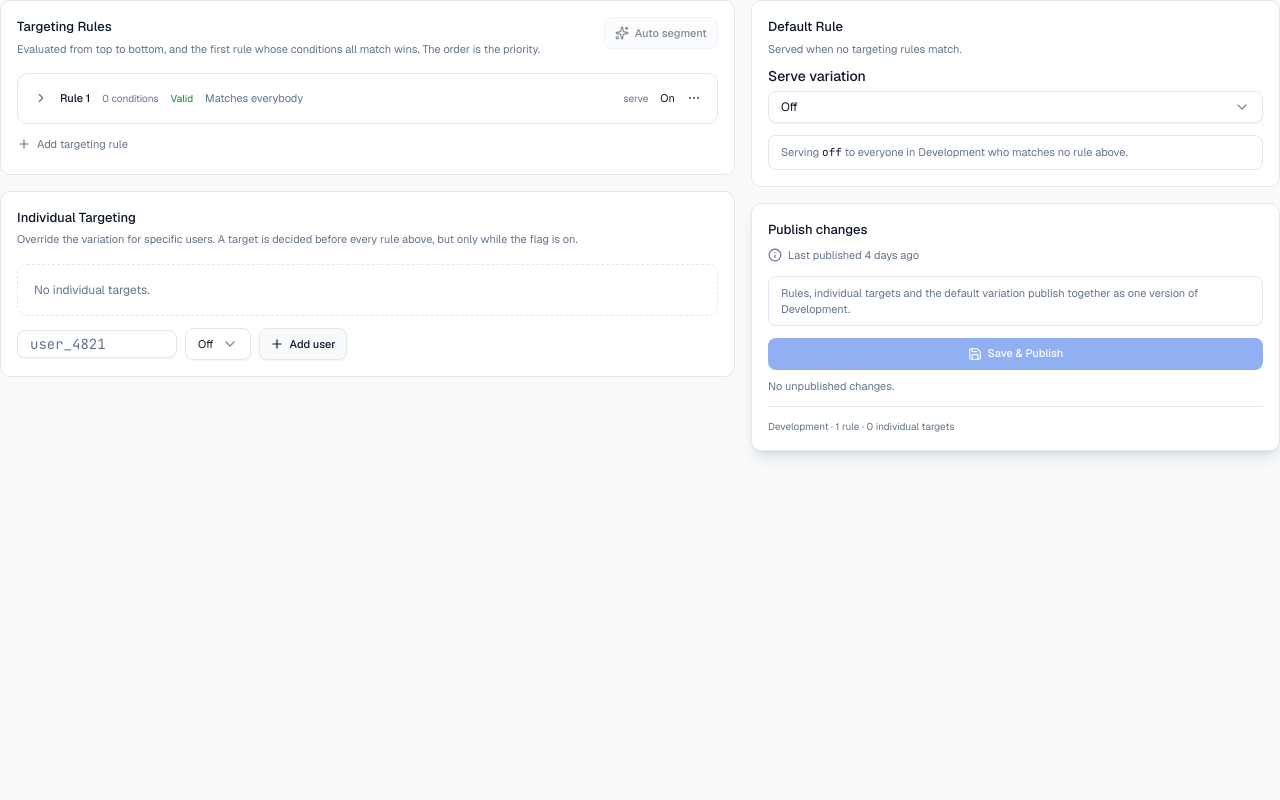
it: expanding a rule › opens the rule that was clicked
Click the button "Rule 1" at (131, 98), box x1=30 y1=86 x2=679 y2=110
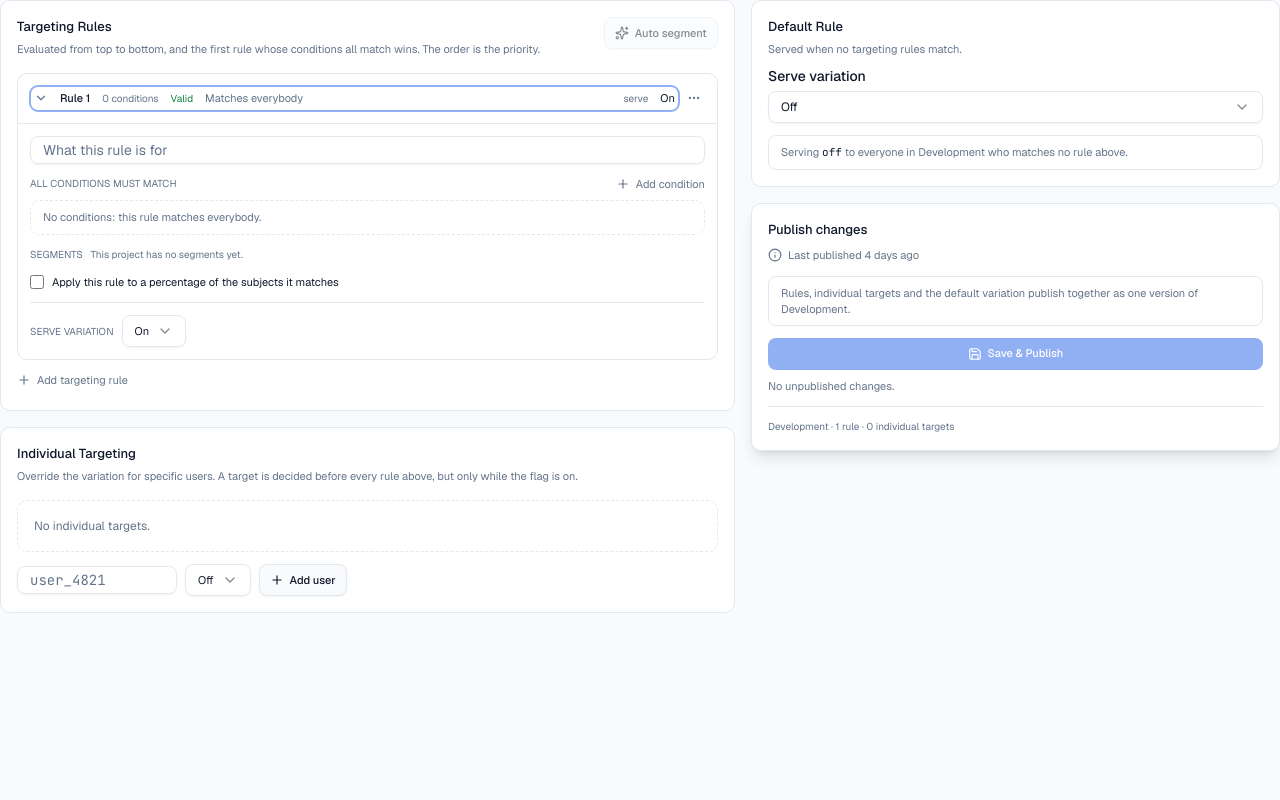
Now the field named "Description for rule 1" is shown, box x1=30 y1=136 x2=705 y2=164
Now the text "All conditions must match" is shown, box x1=30 y1=176 x2=176 y2=191
